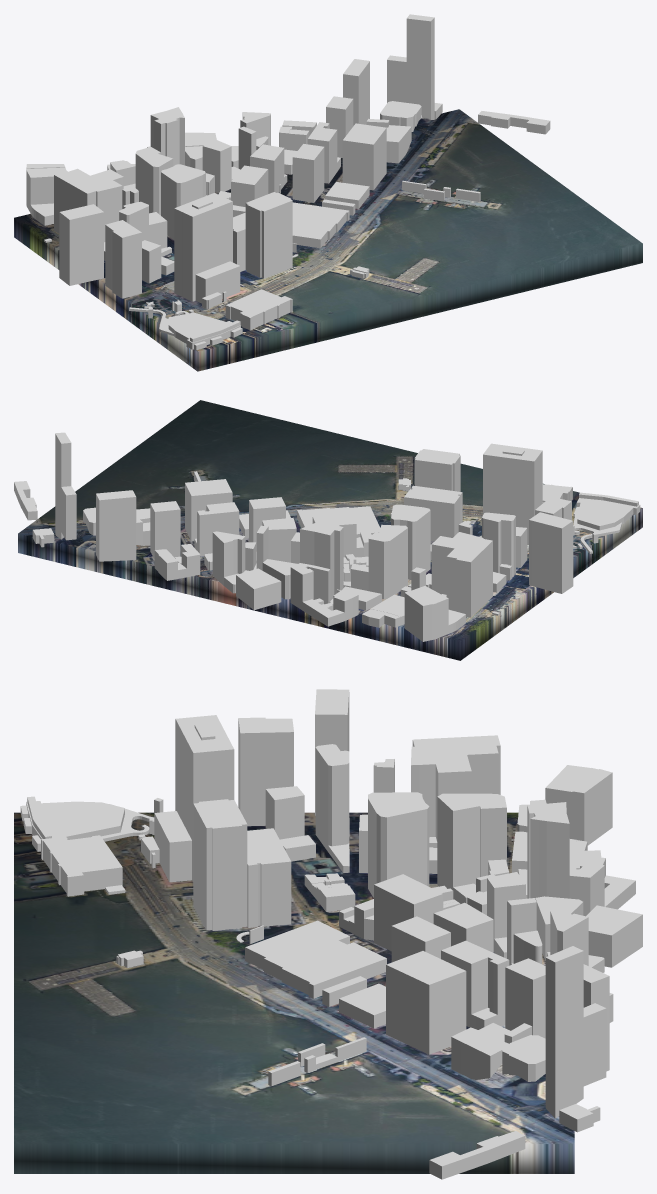
Rendered from City1.glb.
3 renders of one model, top to bottom at view 1: azimuth 30°, elevation 25°; view 2: azimuth 150°, elevation 25°; view 3: azimuth 270°, elevation 25°, orthographic. The views are drawn at different scales.
Visible parts, largest first — view 1: Areas:building, EXPORT_GOOGLE_SAT_WM; view 2: Areas:building, EXPORT_GOOGLE_SAT_WM; view 3: Areas:building, EXPORT_GOOGLE_SAT_WM.
Part boxes in pixels (box(x1,y1,x2,y2)): Areas:building: box(26, 14, 550, 350); EXPORT_GOOGLE_SAT_WM: box(14, 109, 642, 371); Areas:building: box(14, 432, 640, 641); EXPORT_GOOGLE_SAT_WM: box(18, 400, 642, 660); Areas:building: box(20, 689, 642, 1179); EXPORT_GOOGLE_SAT_WM: box(14, 812, 574, 1173).
Size of the model in its own units: 1253 by 283 by 858.
Materials: 1 (1 with a texture image).
